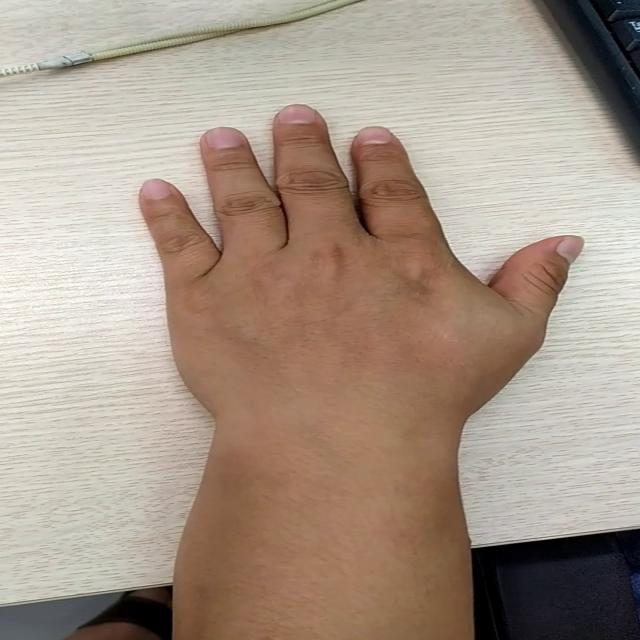hand: (119, 105, 579, 436)
